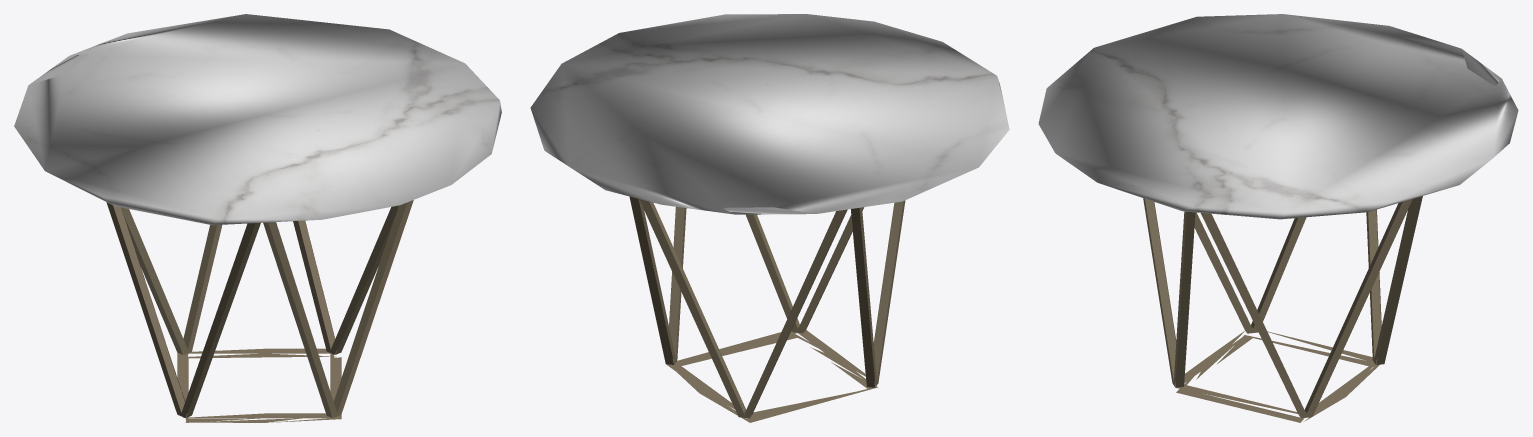
The picture shows the model from 3 angles, left to right: view 1: azimuth 30°, elevation 25°; view 2: azimuth 150°, elevation 25°; view 3: azimuth 270°, elevation 25°; orthographic projection.
Visible parts, largest first — view 1: Mesh_0.013, Mesh_1.010, Mesh_2.008; view 2: Mesh_0.013, Mesh_1.010, Mesh_2.008; view 3: Mesh_0.013, Mesh_1.010, Mesh_2.008.
Part boxes in pixels (left/top/right/bottom): Mesh_0.013: left=14, top=14, right=501, bottom=225; Mesh_1.010: left=106, top=200, right=413, bottom=422; Mesh_2.008: left=183, top=353, right=336, bottom=422; Mesh_0.013: left=530, top=14, right=1009, bottom=214; Mesh_1.010: left=629, top=196, right=905, bottom=422; Mesh_2.008: left=677, top=330, right=877, bottom=412; Mesh_0.013: left=1038, top=14, right=1518, bottom=219; Mesh_1.010: left=1143, top=196, right=1422, bottom=422; Mesh_2.008: left=1175, top=331, right=1372, bottom=421.
Size of the model in its own units: 1211 by 742 by 1213.
2 materials, 1 textured.
